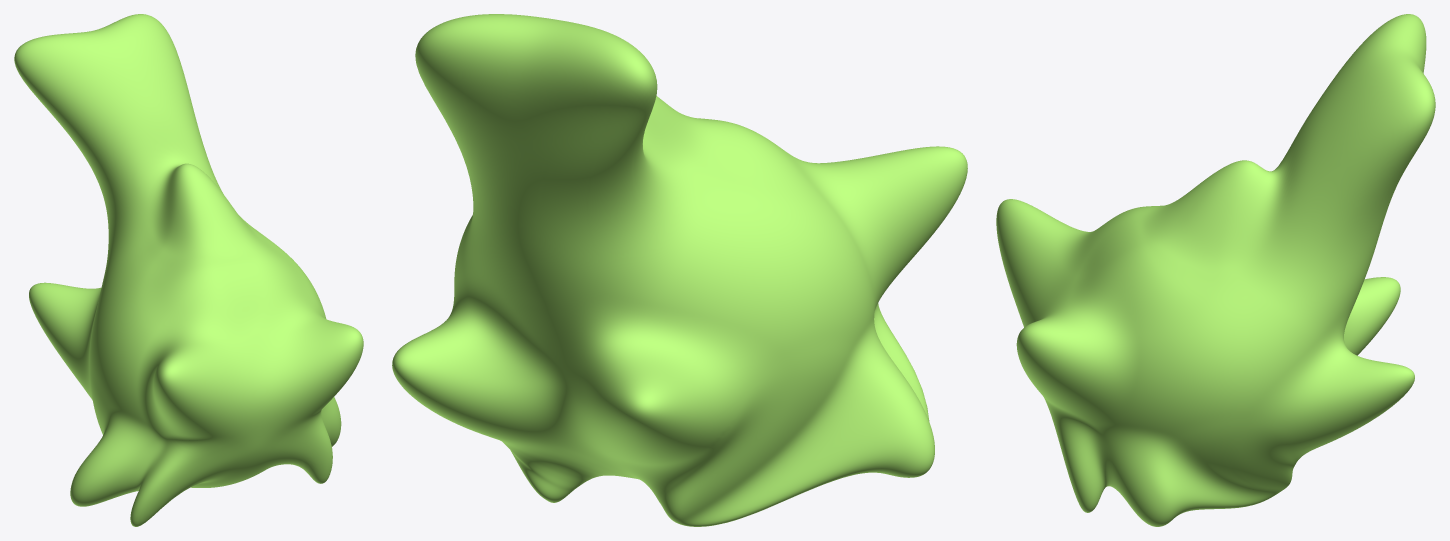
File: xPS_AR3.glb
3 renders of one model, left to right at view 1: azimuth 30°, elevation 25°; view 2: azimuth 150°, elevation 25°; view 3: azimuth 270°, elevation 25°, orthographic. The views are drawn at different scales.
Visible parts, largest first — view 1: Icosphere; view 2: Icosphere; view 3: Icosphere.
Boxes of the visible parts, bbox=[...] form: Icosphere: bbox=[14, 14, 363, 526]; Icosphere: bbox=[392, 14, 967, 526]; Icosphere: bbox=[996, 14, 1435, 526].
Size of what is drawn, in the model's own units: 0.278 by 0.3647 by 0.3402.
